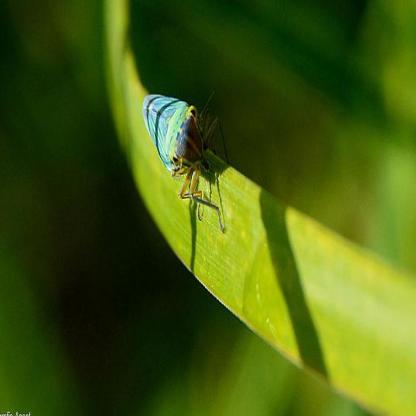Green-Leafhopper: (141, 91, 229, 241)
